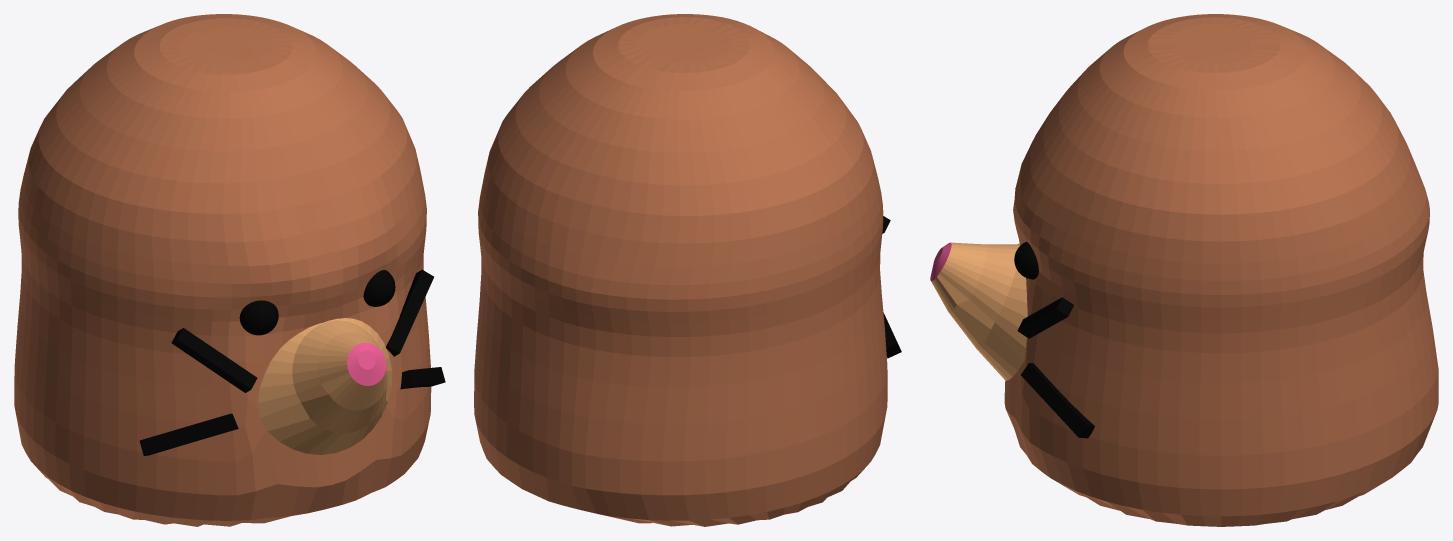
Rendered from Mole.fbx.
3 views of the same model, side by side, from view 1: azimuth 30°, elevation 25°; view 2: azimuth 150°, elevation 25°; view 3: azimuth 270°, elevation 25° (orthographic).
Visible parts, largest first — view 1: Cylinder, Cylinder.001, Cube, Cube.001, Sphere; view 2: Cylinder; view 3: Cylinder, Cylinder.001, Cube.001, Cube, Sphere.
Boxes of the visible parts, left/top/right/bottom form: Cylinder: left=14, top=14, right=431, bottom=526; Cylinder.001: left=258, top=318, right=391, bottom=454; Cube: left=171, top=269, right=433, bottom=392; Cube.001: left=139, top=367, right=445, bottom=455; Sphere: left=239, top=270, right=395, bottom=335; Cylinder: left=474, top=14, right=887, bottom=526; Cylinder: left=1004, top=14, right=1438, bottom=526; Cylinder.001: left=930, top=242, right=1027, bottom=380; Cube.001: left=1021, top=363, right=1094, bottom=438; Cube: left=1017, top=297, right=1073, bottom=338; Sphere: left=1014, top=242, right=1038, bottom=279.
Size of the model in its own units: 205 by 230 by 255.
